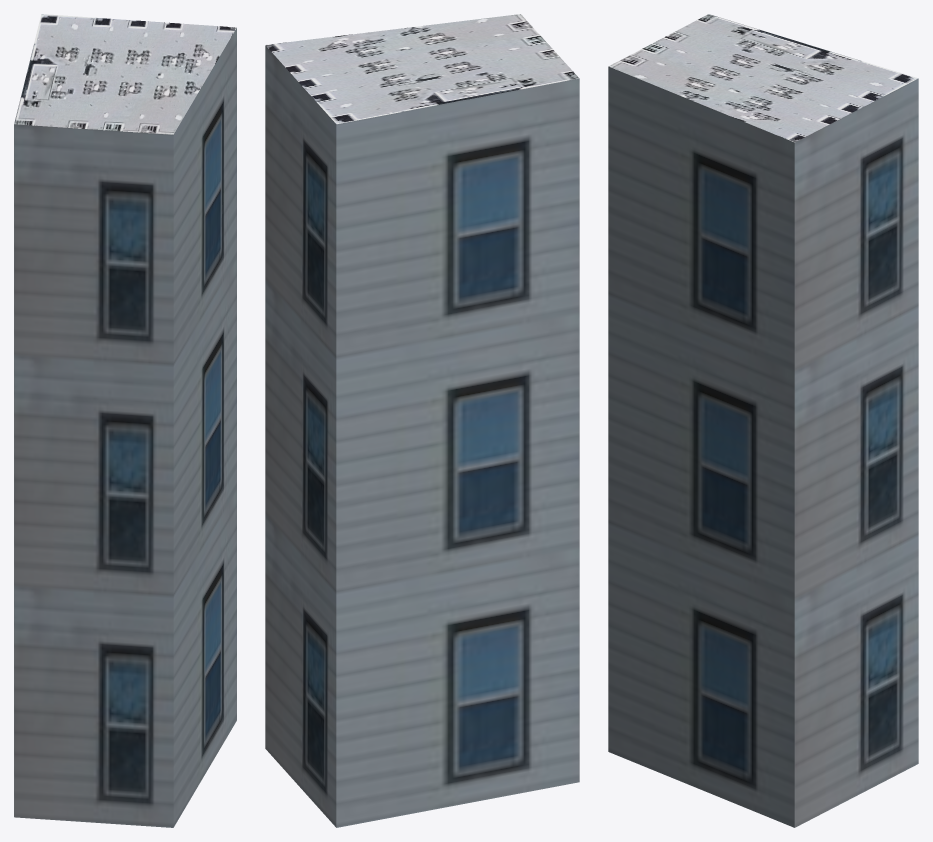
Rendered from ResTex__2992.fbx.
The picture shows the model from 3 angles, left to right: view 1: azimuth 30°, elevation 25°; view 2: azimuth 150°, elevation 25°; view 3: azimuth 270°, elevation 25°; orthographic projection. The views are drawn at different scales.
Parts seen in each view (by area): view 1: CityEngineMaterial_18_m, CityEngineMaterial_m; view 2: CityEngineMaterial_18_m, CityEngineMaterial_m; view 3: CityEngineMaterial_18_m, CityEngineMaterial_m.
Boxes of the visible parts, x1,y1,x2,y2 form: CityEngineMaterial_18_m: (14,28,236,827); CityEngineMaterial_m: (14,14,236,134); CityEngineMaterial_18_m: (265,45,579,827); CityEngineMaterial_m: (265,14,579,124); CityEngineMaterial_18_m: (608,66,918,827); CityEngineMaterial_m: (608,14,918,142).
Size of the model in its own units: 3.62 by 9 by 3.69.
2 materials, 2 textured.
